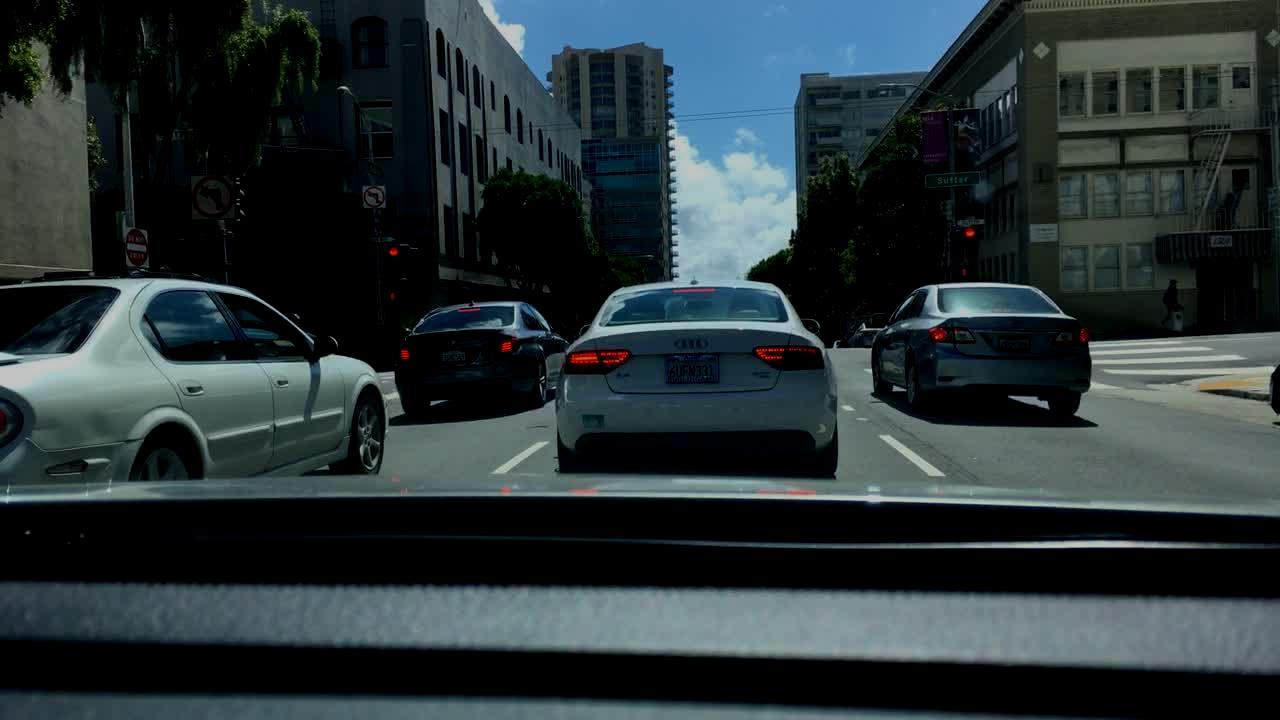Audi: (662, 331, 724, 360)
